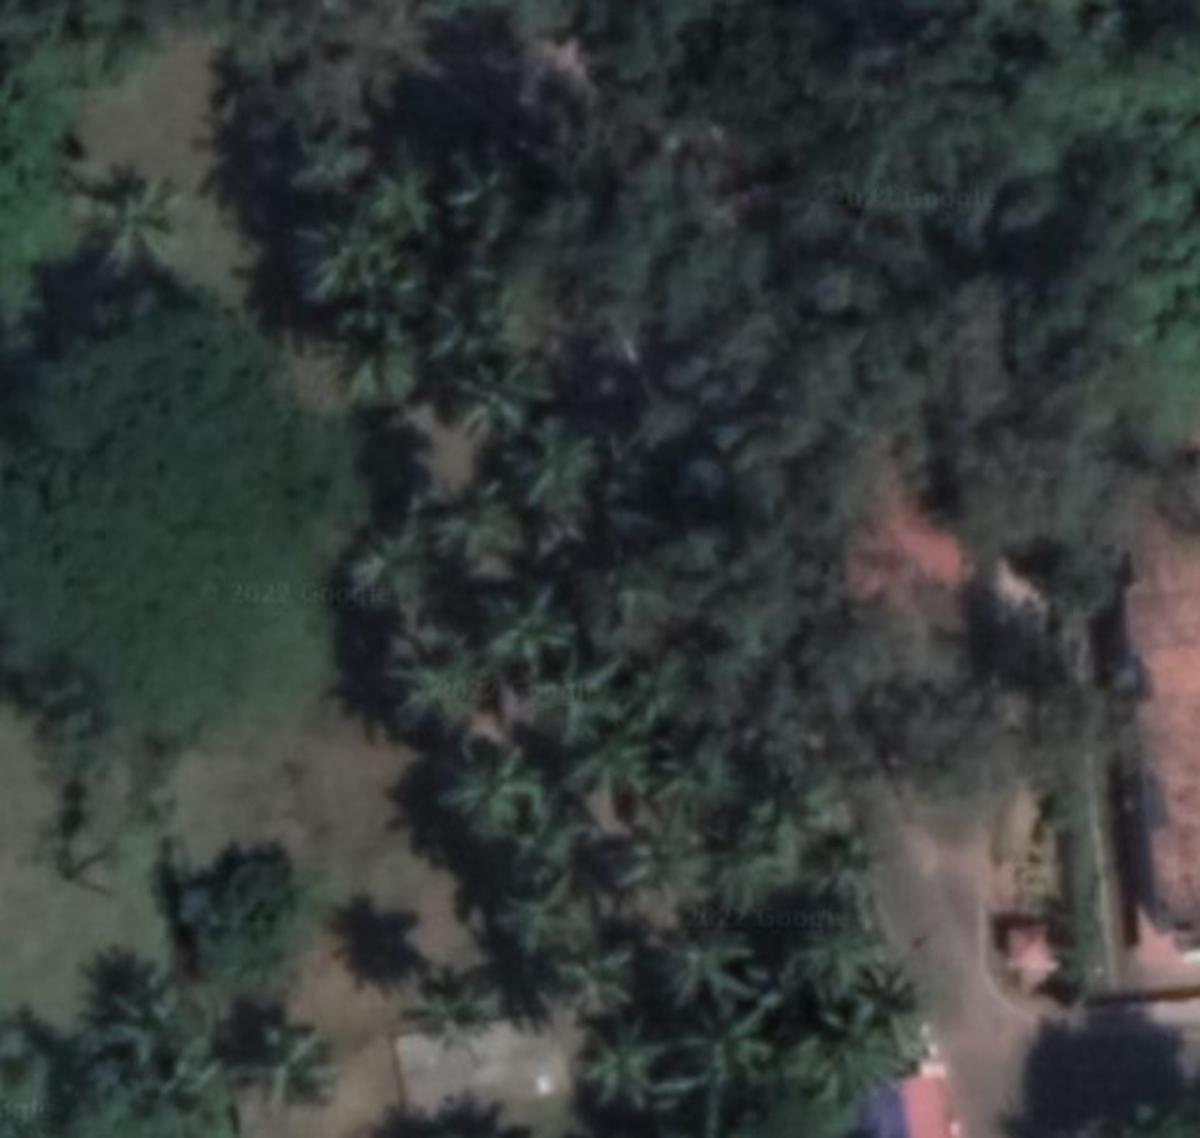coconut: (279, 217, 398, 330), (631, 922, 759, 1020), (376, 625, 483, 739), (228, 1013, 345, 1113), (330, 525, 453, 620), (75, 168, 188, 270), (506, 419, 616, 521), (512, 644, 624, 744), (427, 742, 540, 837), (430, 482, 534, 586), (576, 1022, 680, 1124), (491, 871, 597, 969), (478, 580, 589, 665), (88, 969, 187, 1064), (604, 826, 718, 909), (795, 1000, 905, 1085), (330, 323, 432, 410), (406, 973, 498, 1054)
